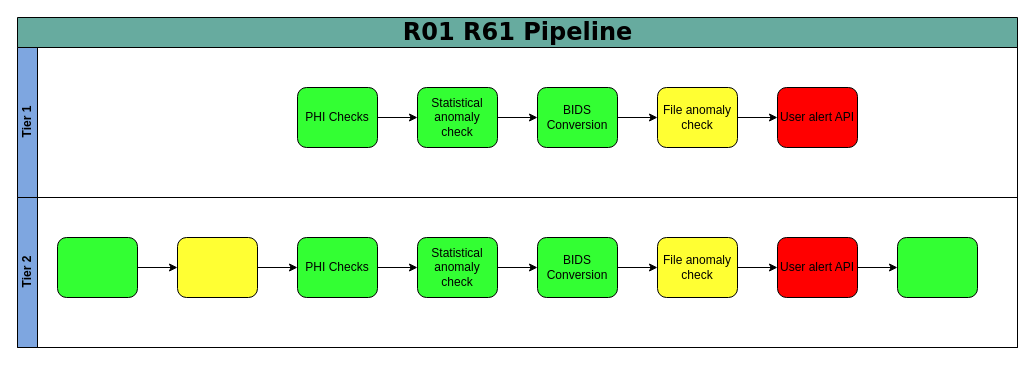
The diagram is 1035 pixels wide and 365 high, and some of its shapes have lost their labels. The centre of each missing label's shape, as x and y in pixels:
NATUS to EDF CLI: the point at 217,267
Pennsieve install on CNT-fs: the point at 97,267
Pennsieve Upload: the point at 937,267
